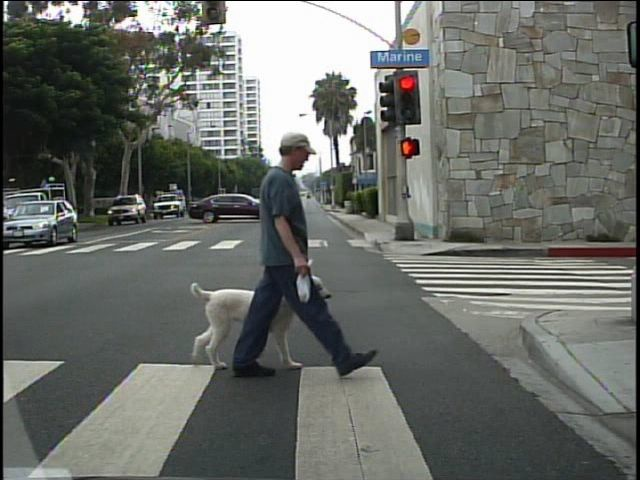person: (232, 119, 363, 386)
